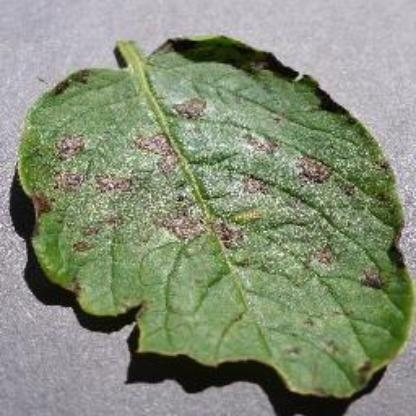Early-Blight: (14, 31, 408, 403)
